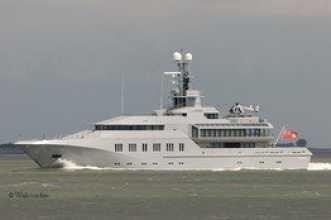yacht: (24, 47, 311, 167)
